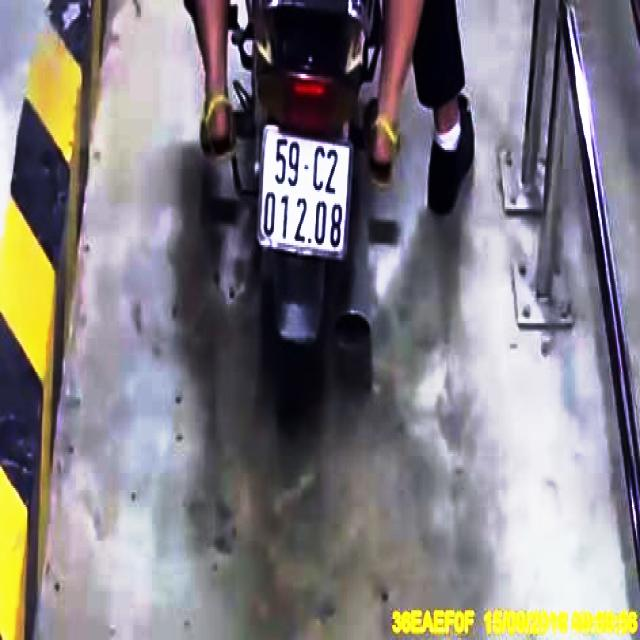license_plate: (258, 130, 350, 258)
